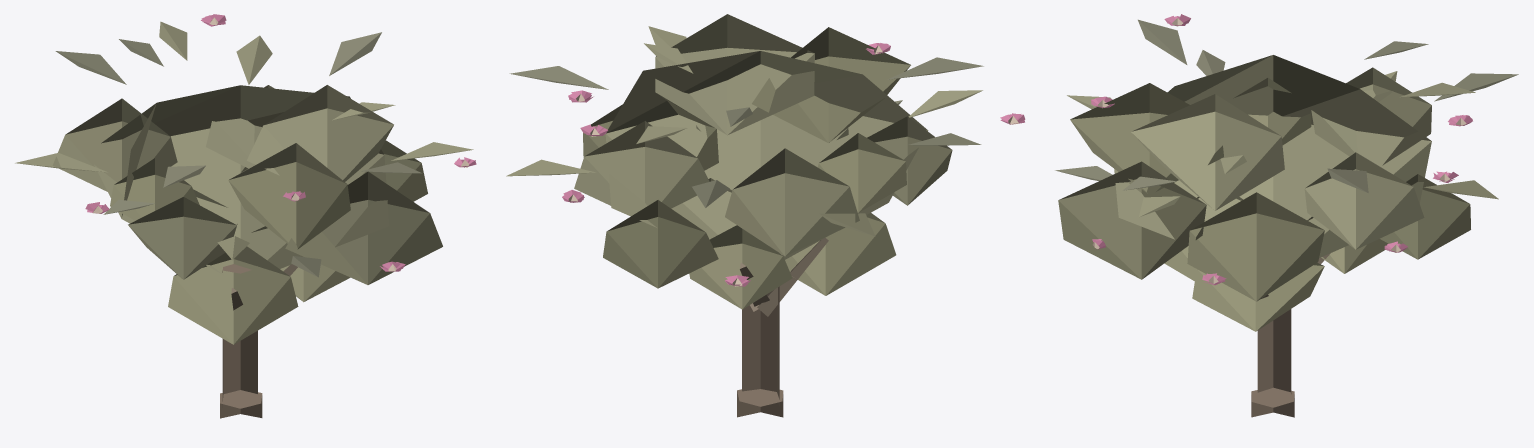
The model's file is shu.mangguo@flowering__winter.glb.
3 renders of one model, left to right at view 1: azimuth 30°, elevation 25°; view 2: azimuth 150°, elevation 25°; view 3: azimuth 270°, elevation 25°, orthographic. The views are drawn at different scales.
Parts seen in each view (by area): view 1: shu.mangguo@flowering__winter; view 2: shu.mangguo@flowering__winter; view 3: shu.mangguo@flowering__winter.
Boxes of the visible parts, x1,y1,x2,y2 form: shu.mangguo@flowering__winter: (15, 14, 476, 418); shu.mangguo@flowering__winter: (506, 14, 1025, 417); shu.mangguo@flowering__winter: (1055, 14, 1518, 417).
Bounding box in the file's own units: 14.05 × 11.4 × 13.39.
